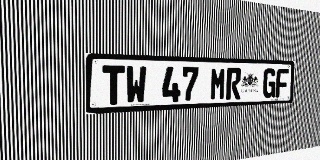4: (162, 66, 181, 103)
7: (181, 67, 199, 102)
F: (275, 69, 289, 98)
G: (262, 68, 276, 98)
M: (210, 67, 226, 100)
R: (226, 68, 242, 100)
T: (102, 65, 125, 105)
W: (125, 66, 147, 104)
